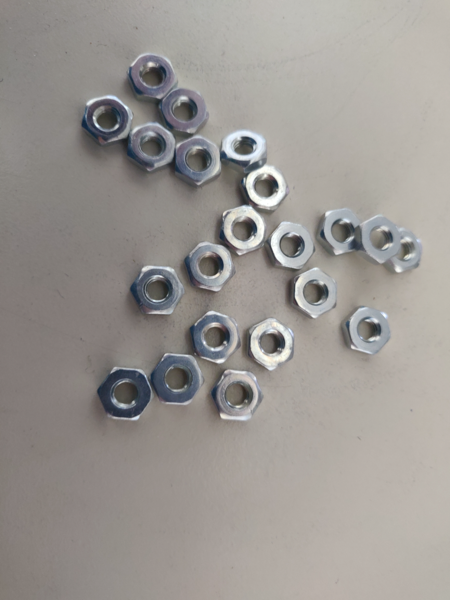nut: (99, 366, 151, 421), (182, 240, 235, 292), (131, 263, 183, 315), (153, 352, 204, 405), (217, 203, 270, 254), (247, 318, 296, 371), (213, 369, 263, 420), (261, 223, 316, 269), (290, 266, 339, 317), (81, 96, 133, 144), (342, 305, 392, 354), (191, 313, 239, 363), (127, 52, 179, 98), (127, 122, 176, 170), (173, 137, 223, 184), (320, 208, 365, 259), (360, 212, 401, 265), (165, 87, 209, 133), (240, 168, 286, 210), (225, 128, 269, 170), (392, 225, 423, 274)
